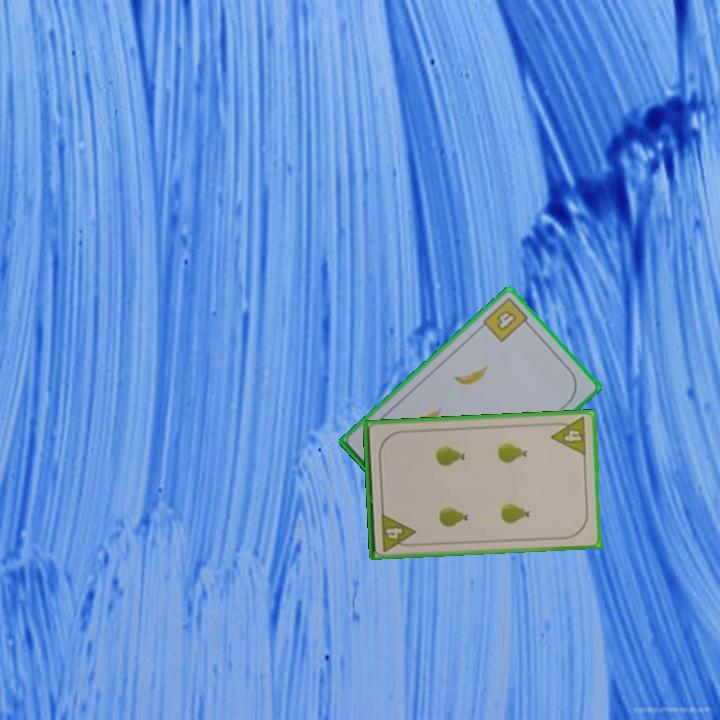4b: (479, 294, 534, 345)
4p: (547, 414, 589, 458), (377, 510, 418, 554)
